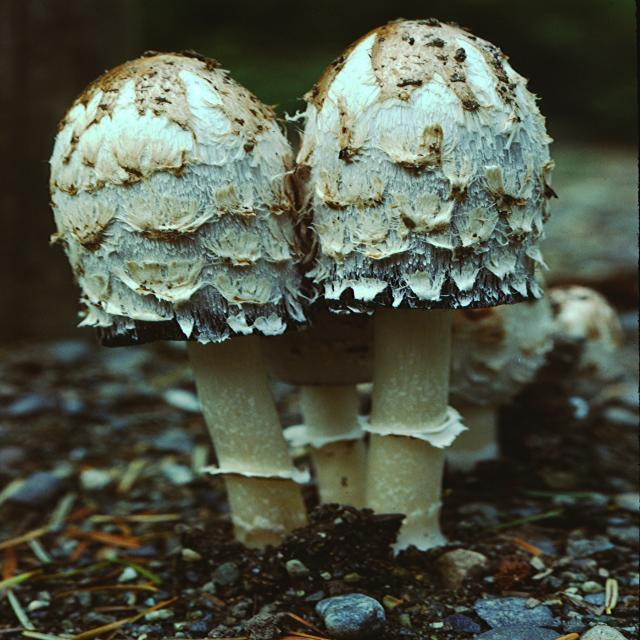Coprinus comatus: (299, 21, 551, 533), (49, 57, 311, 538)
